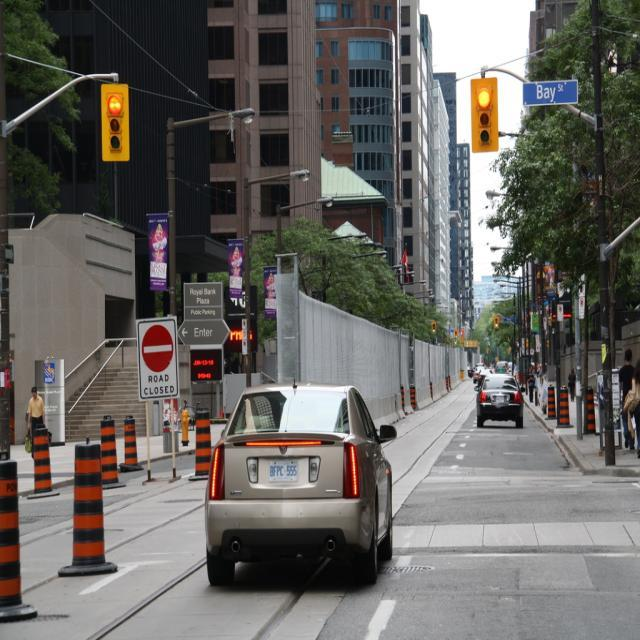traffic light: (471, 79, 499, 153), (102, 85, 129, 161)
